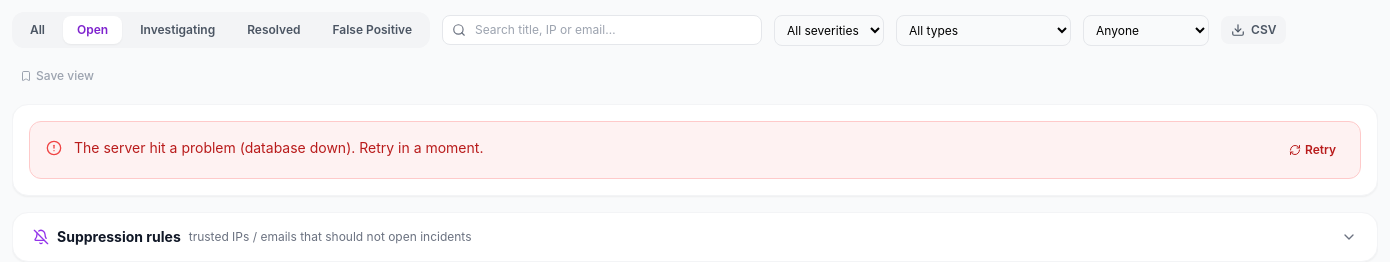
IncidentsTab › shows a failure to load once, with a way to retry
Check: the number of messages is 1, box [29, 121, 1361, 179]
Check: the text "The server hit a problem (database down). Retry in a moment." is shown once, box [74, 139, 483, 156]
Click the button "Retry".
click(1312, 150)  # box [1281, 138, 1344, 162]
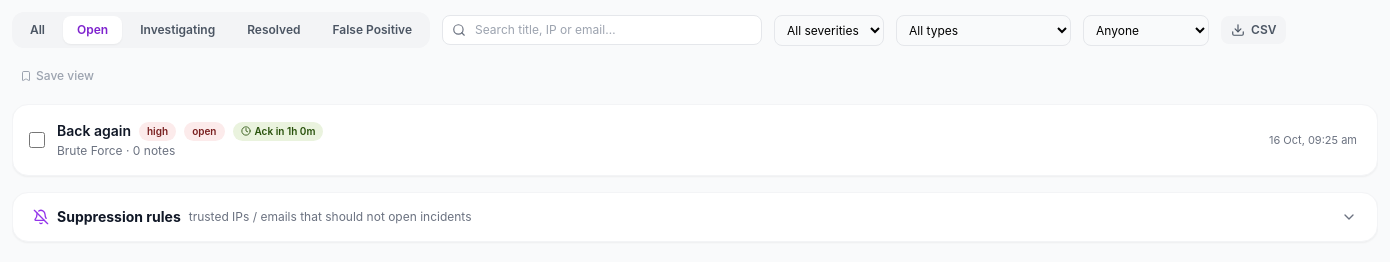
Check: the text "Back again" is shown, box [57, 121, 131, 141]
Check: the message "The server hit a problem (database down). Retry in a moment. Retry" is gone
